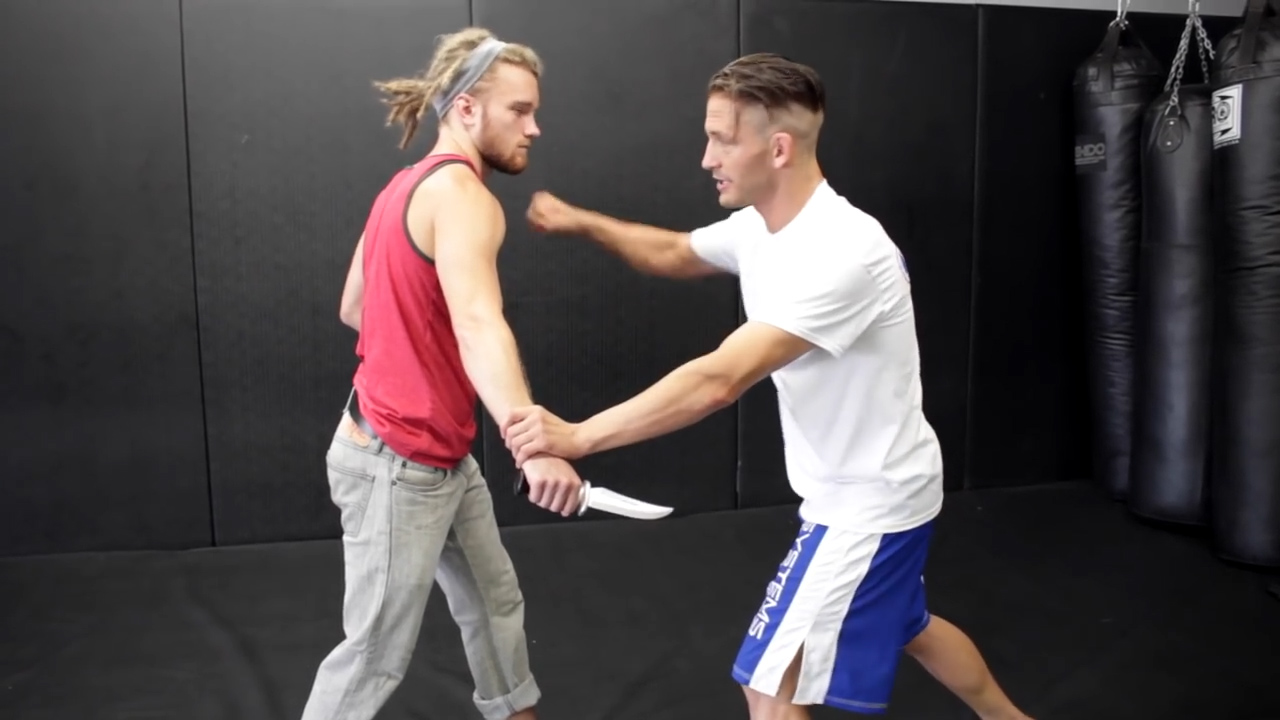knife: (508, 465, 683, 532)
